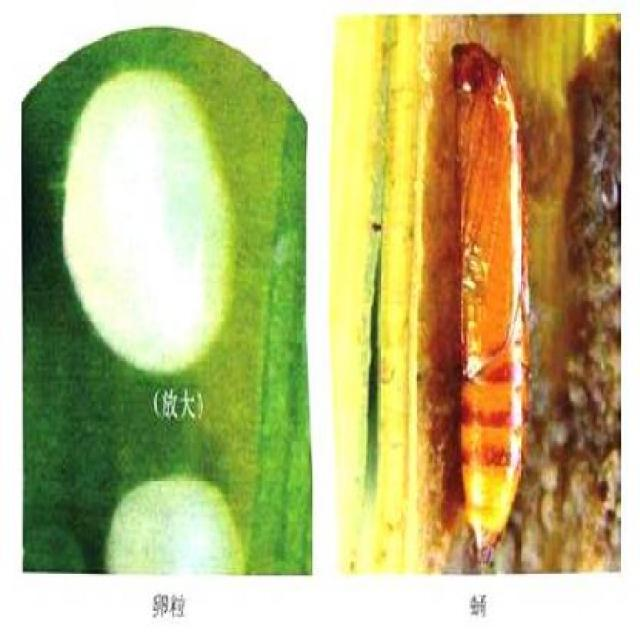whorl-maggot: (442, 38, 538, 580)
